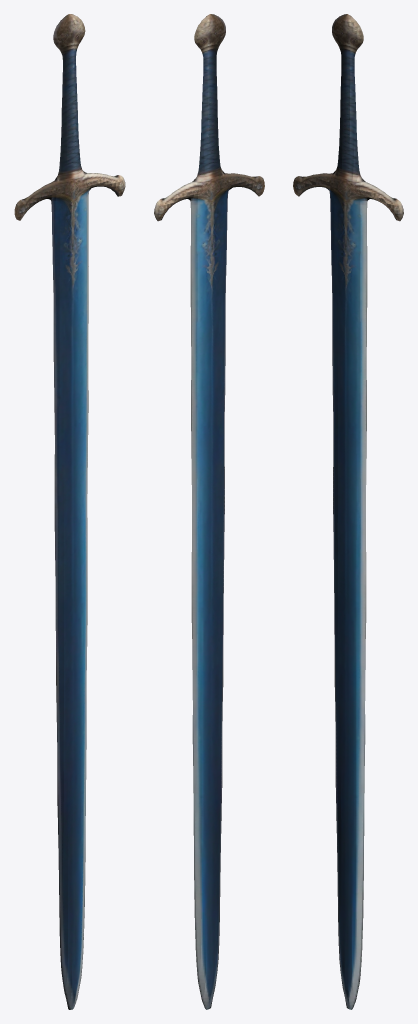
Rendered from blue_sword.glb.
3 renders of one model, left to right at view 1: azimuth 30°, elevation 25°; view 2: azimuth 210°, elevation 25°; view 3: azimuth 330°, elevation 25°, orthographic.
Parts seen in each view (by area): view 1: Grid; view 2: Grid; view 3: Grid.
Part boxes in pixels (bbox=[...]): Grid: bbox=[14, 14, 125, 1009]; Grid: bbox=[154, 14, 264, 1009]; Grid: bbox=[293, 14, 403, 1009].
Bounding box in the file's own units: 0.4487 × 3.85 × 0.044.
1 material, 1 textured.
